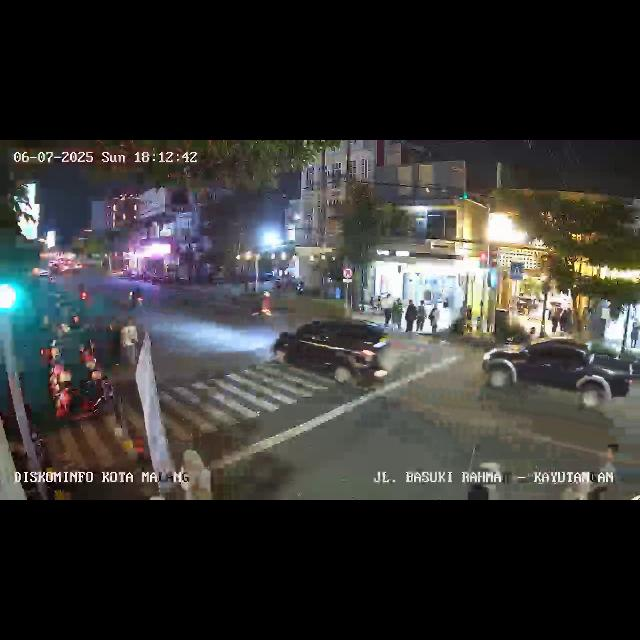car: (481, 340, 635, 410), (280, 319, 390, 391)
motorcycle: (254, 290, 274, 326), (128, 285, 144, 311)
person: (170, 444, 214, 500), (119, 318, 138, 370), (626, 316, 640, 346), (417, 302, 428, 336), (406, 300, 416, 336), (394, 298, 404, 332), (382, 296, 392, 328), (429, 304, 439, 334), (550, 304, 560, 334), (560, 305, 570, 333)
